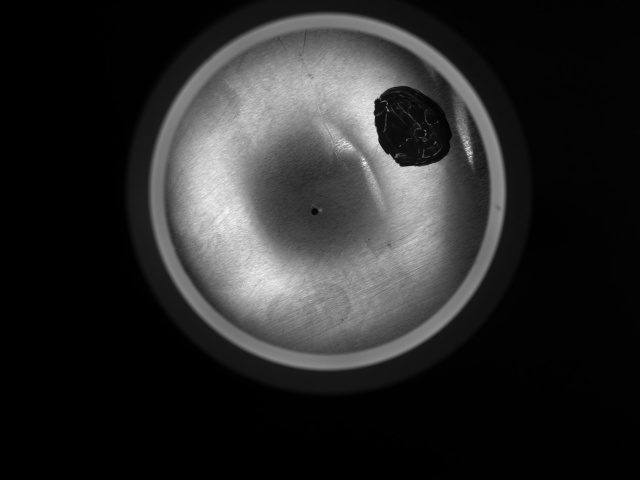zang_wu: (371, 83, 454, 169)
zhen_kong: (310, 204, 319, 217)
